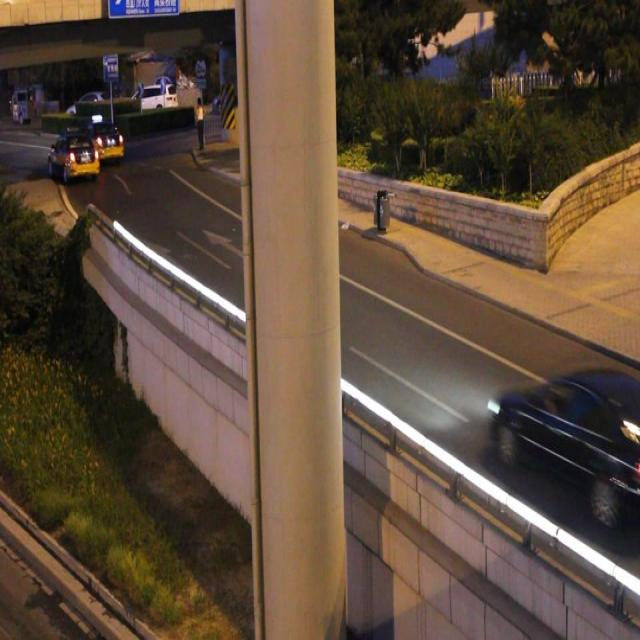car: (493, 368, 640, 511), (51, 134, 98, 177), (82, 119, 124, 160)
